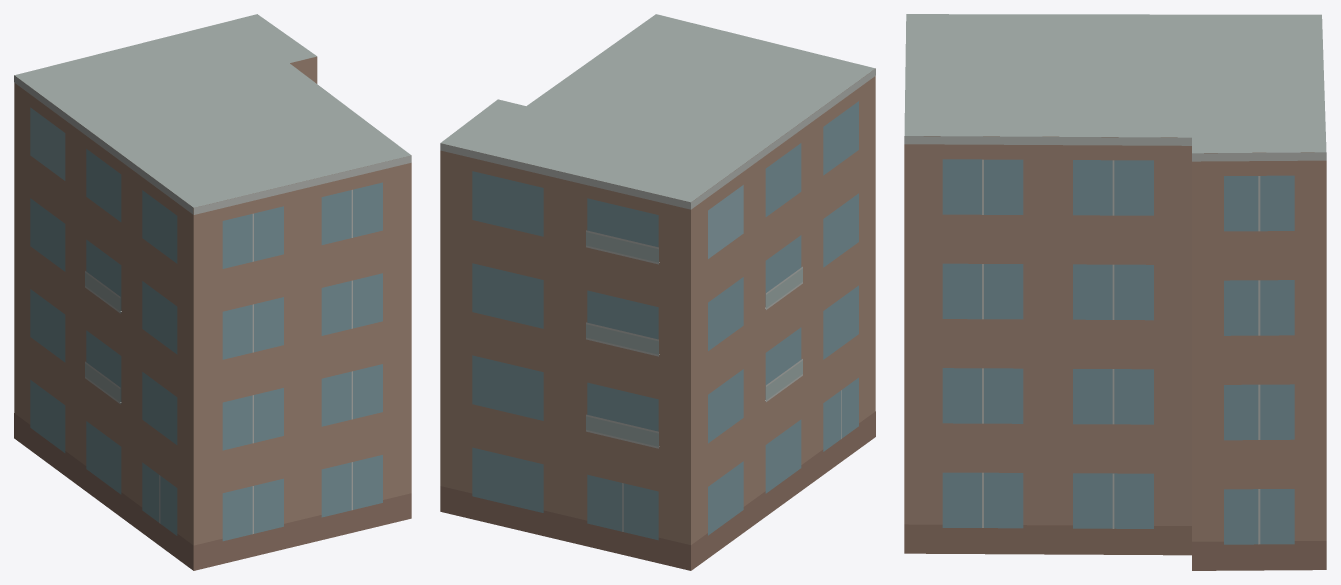
File: survey-upis-33017356.glb
3 views of the same model, side by side, from view 1: azimuth 30°, elevation 25°; view 2: azimuth 150°, elevation 25°; view 3: azimuth 270°, elevation 25° (orthographic). The views are drawn at different scales.
Visible parts, largest first — view 1: survey-upis-33017356.tmp; view 2: survey-upis-33017356.tmp; view 3: survey-upis-33017356.tmp.
Boxes of the visible parts, <box> form: survey-upis-33017356.tmp: <box>14,14,411,570</box>; survey-upis-33017356.tmp: <box>440,14,875,570</box>; survey-upis-33017356.tmp: <box>904,14,1326,570</box>.
Size of the model in its own units: 8.75 by 12.2 by 11.18.
